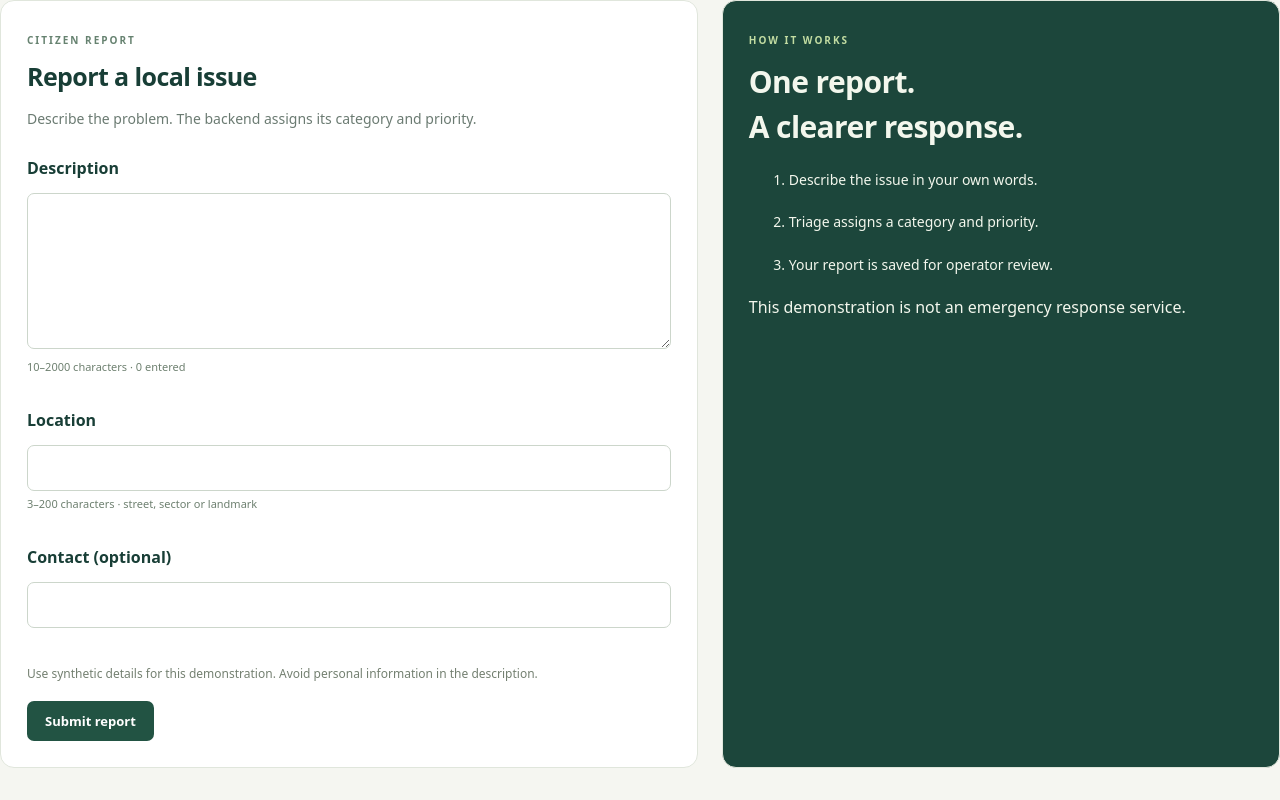
Test: complaint submission › shows Retry-After for rate-limited submissions
In the text box labelled "Description": (349, 271) 27,193 -> 671,349, type "  Burst water pipe flooding the street.  "
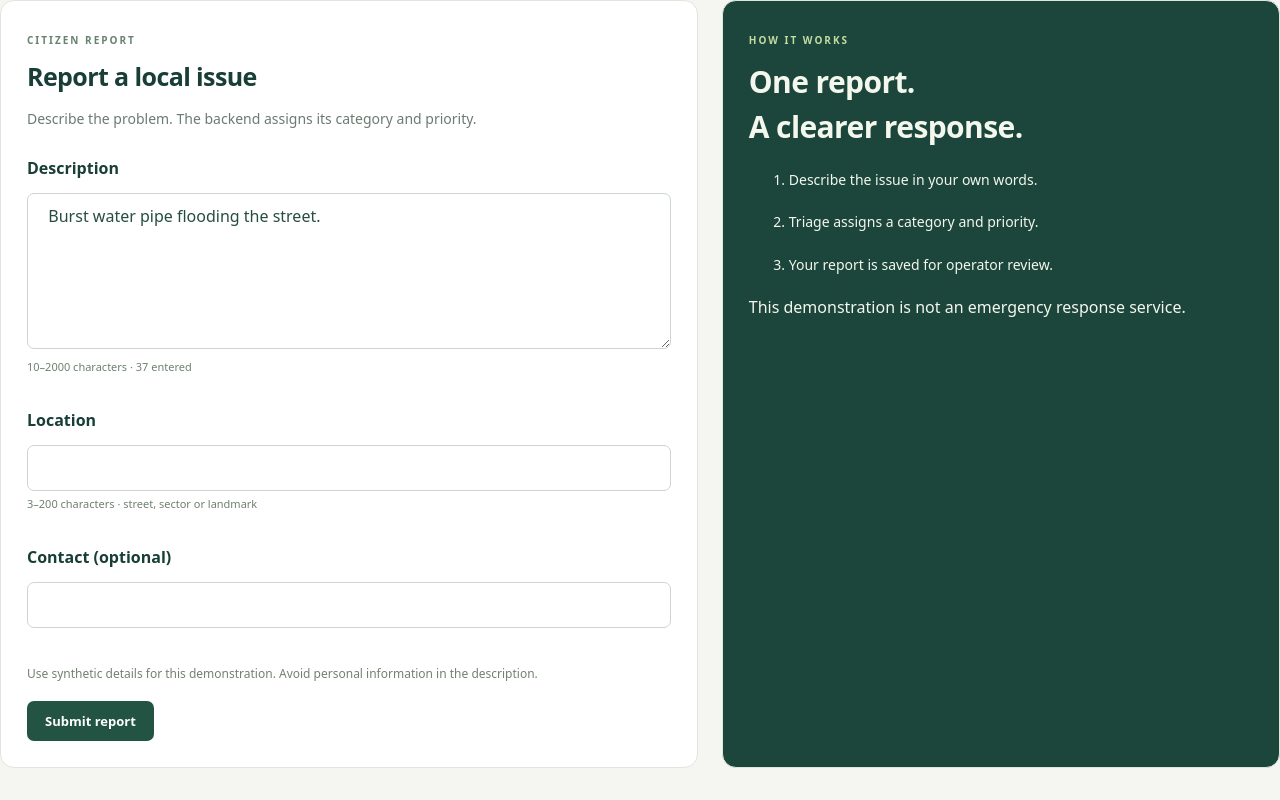
In the field labelled "Location": (349, 468) 27,445 -> 671,491, type "  Synthetic Street  "
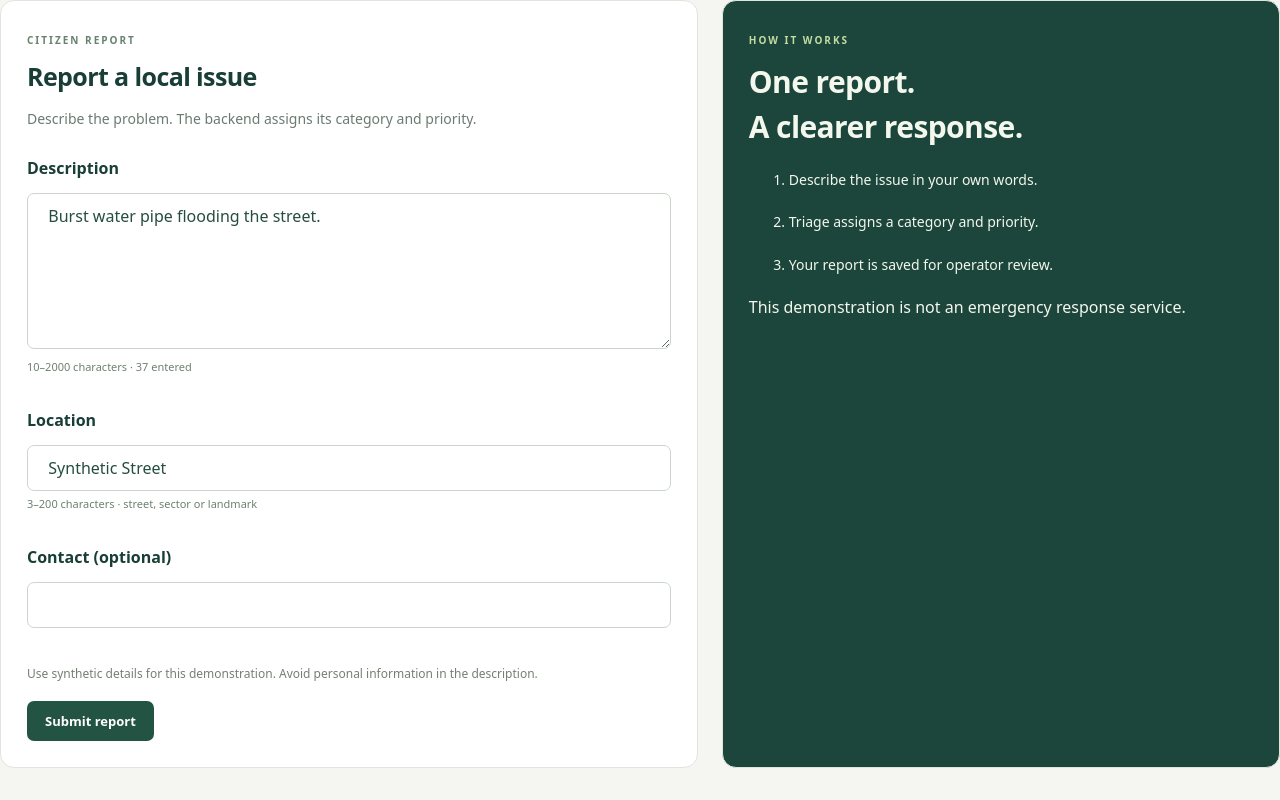
Click the button "Submit report": (90, 721) 27,701 -> 154,741
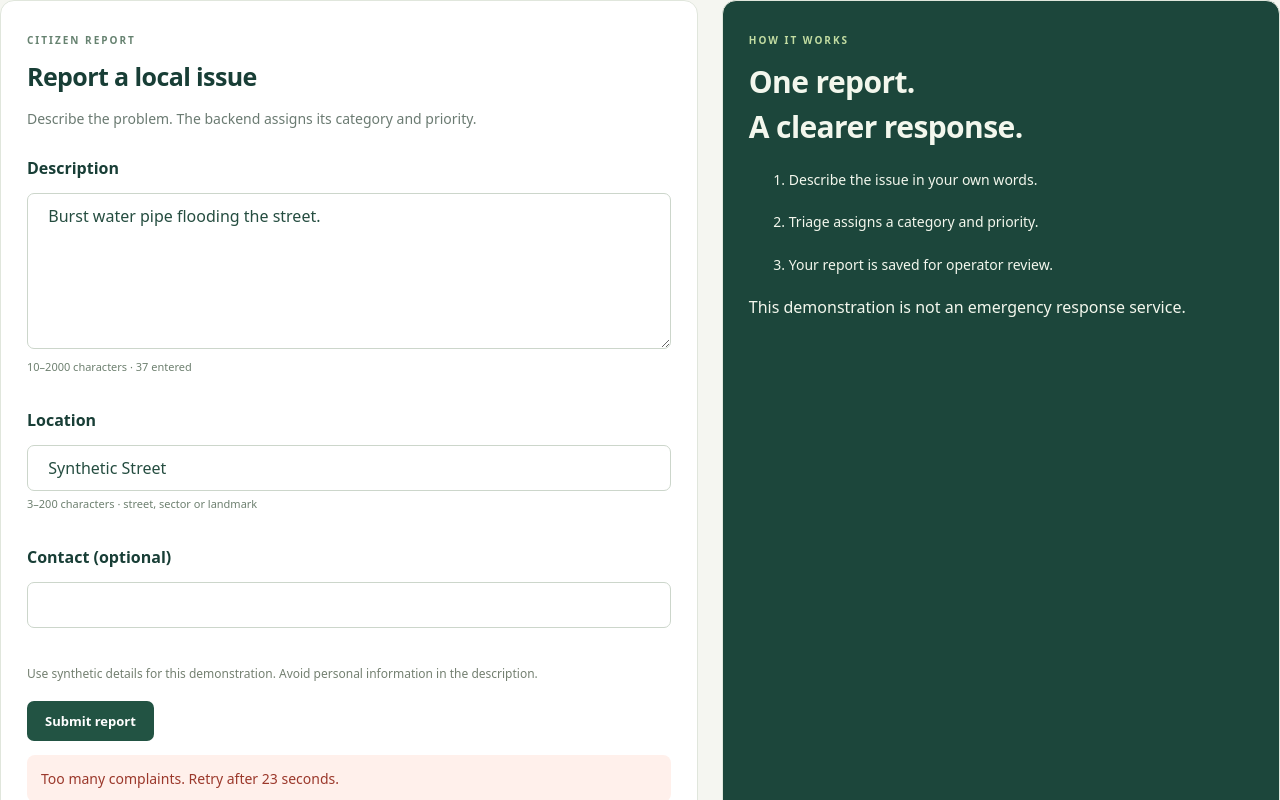
Expected: the message shows "Retry after 23 seconds.", 41,769 -> 339,788
